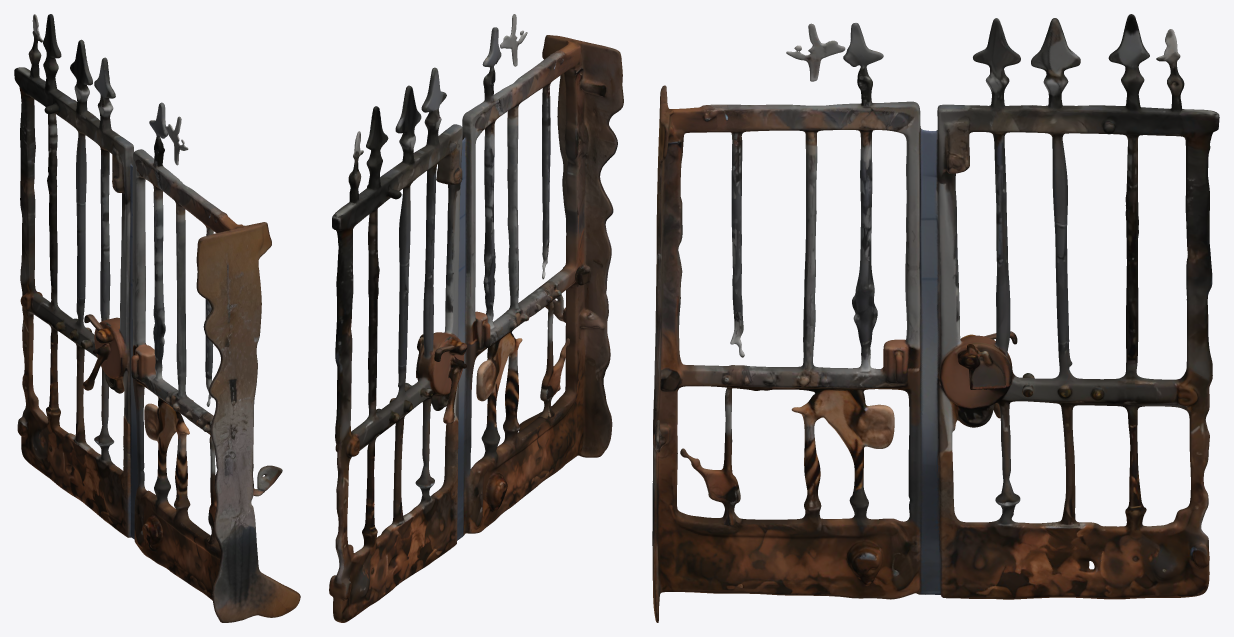
The model's file is بوابة_حديدية-2.glb.
The picture shows the model from 3 angles, left to right: view 1: azimuth 30°, elevation 25°; view 2: azimuth 150°, elevation 25°; view 3: azimuth 270°, elevation 25°; orthographic projection. The views are drawn at different scales.
Visible parts, largest first — view 1: tripo_node_5e476ca5-f895-482d-909d-e0d5c84fb0c4; view 2: tripo_node_5e476ca5-f895-482d-909d-e0d5c84fb0c4; view 3: tripo_node_5e476ca5-f895-482d-909d-e0d5c84fb0c4.
Boxes of the visible parts, bbox=[...] form: tripo_node_5e476ca5-f895-482d-909d-e0d5c84fb0c4: bbox=[14, 14, 300, 622]; tripo_node_5e476ca5-f895-482d-909d-e0d5c84fb0c4: bbox=[329, 14, 623, 622]; tripo_node_5e476ca5-f895-482d-909d-e0d5c84fb0c4: bbox=[652, 14, 1219, 622].
Bounding box in the file's own units: 0.2247 × 1 × 0.881.
Materials: 1 (1 with a texture image).
